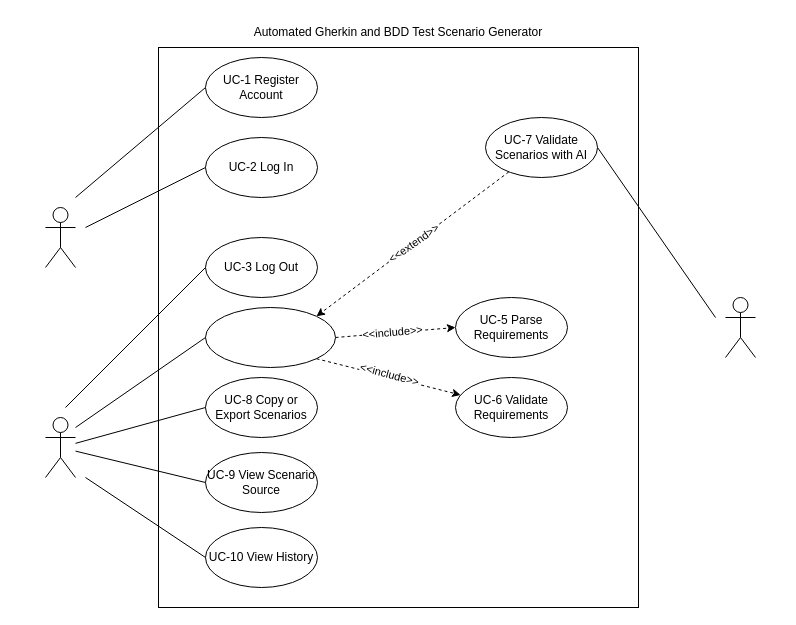
This 796x625 diagram has some shape labels left out. The centre of each missing label's shape, as x and y in pixels:
AI Component: the point at 740,327
Registered User: the point at 60,447
UC-4 Generate Scenarios from Backlog: the point at 270,337
Visitor: the point at 60,237
